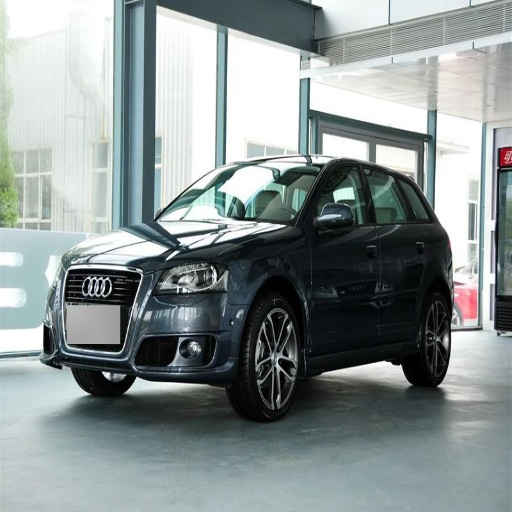back_glass: (368, 166, 433, 334)
back_right_light: (43, 258, 246, 380)
front_bumper: (158, 168, 311, 221)
front_glass: (312, 165, 386, 346)
front_left_door: (153, 263, 226, 301)
front_right_light: (69, 219, 275, 264)
trunk: (230, 296, 303, 420), (405, 297, 450, 385)
